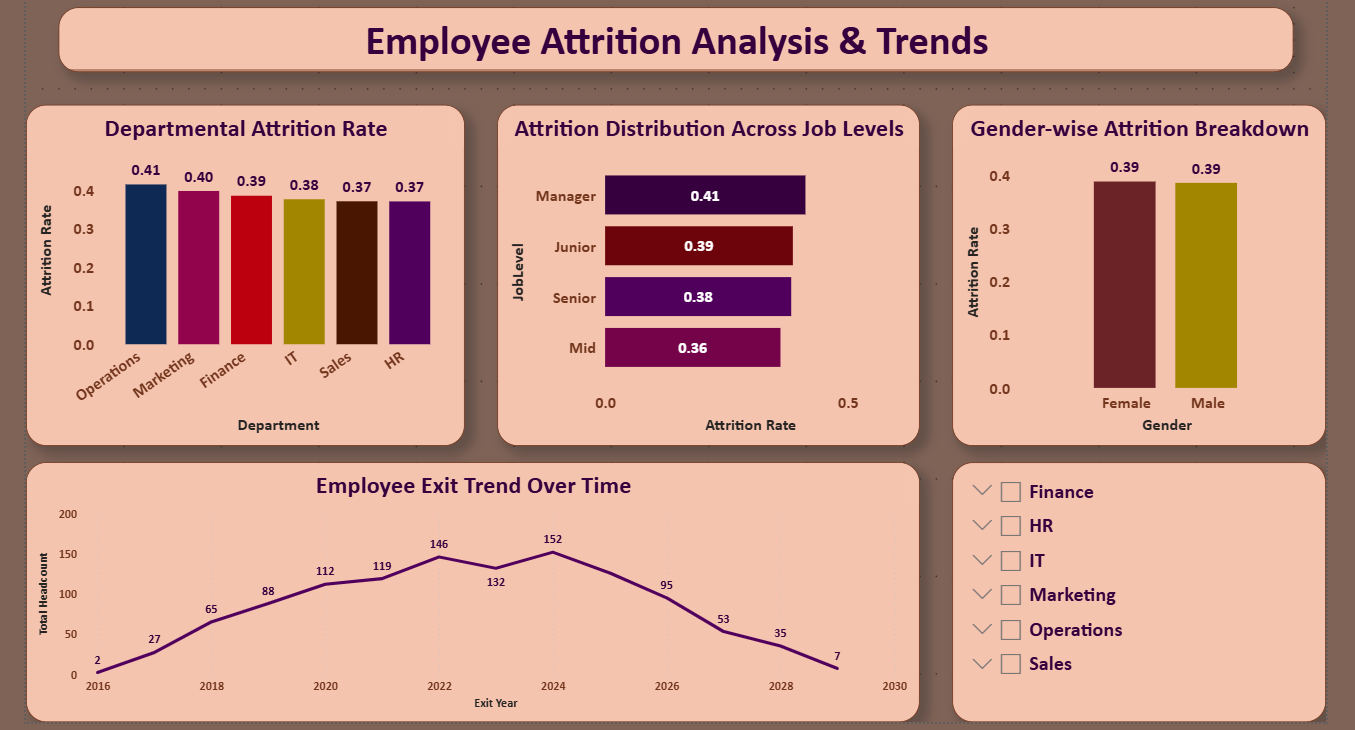

What the dashboard file says about the page in this screenshot:
{"tool":"powerbi","page":{"name":"Attrition Analysis","canvas":[1280,720],"ordinal":1},"visuals":[{"type":"textbox","title":"Employee Attrition Analysis & Trends","box":[32,16,1216,64],"z":0},{"type":"clusteredColumnChart","title":"Departmental Attrition Rate","fields":{"Category":["HR Data.Department"],"Y":["HR Data.Attrition Rate"]},"box":[0,112,432,336],"z":1000},{"type":"barChart","title":"Attrition Distribution Across Job Levels","fields":{"Y":["HR Data.Attrition Rate"],"Category":["HR Data.JobLevel"],"Series":["HR Data.JobLevel"]},"box":[464,112,416,336],"z":2000},{"type":"columnChart","title":"Gender-wise Attrition Breakdown","fields":{"Category":["HR Data.Gender"],"Y":["HR Data.Attrition Rate"]},"box":[912,112,368,336],"z":3000},{"type":"lineChart","title":"Employee Exit Trend Over Time","fields":{"Category":["HR Data.Exit Year"],"Y":["HR Data.Total Headcount"]},"box":[0,464,880,256],"z":4000},{"type":"slicer","fields":{"Values":["HR Data.Department","HR Data.Location","HR Data.JobLevel"]},"box":[912,464,368,256],"z":5000}]}

Visuals, with their boxes on the page's 1280x720 design canvas (x1, y1, x2, y2). These are canvas units, not pixel positions in the 1355x730 screenshot, which may show the page scaled, cropped or inside an application window:
"Employee Attrition Analysis & Trends" textbox: Rect(32, 16, 1248, 80)
"Departmental Attrition Rate" clusteredColumnChart: Rect(0, 112, 432, 448)
"Attrition Distribution Across Job Levels" barChart: Rect(464, 112, 880, 448)
"Gender-wise Attrition Breakdown" columnChart: Rect(912, 112, 1280, 448)
"Employee Exit Trend Over Time" lineChart: Rect(0, 464, 880, 720)
slicer - HR Data.Department x HR Data.Location: Rect(912, 464, 1280, 720)
